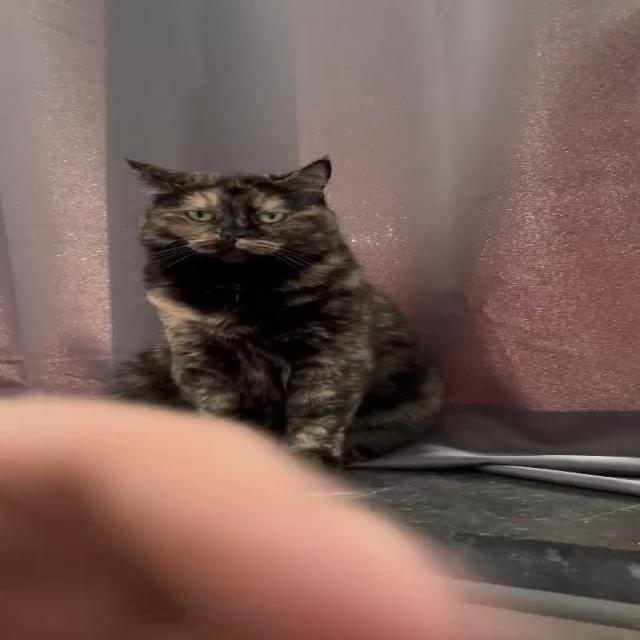authorized: (105, 154, 447, 472)
